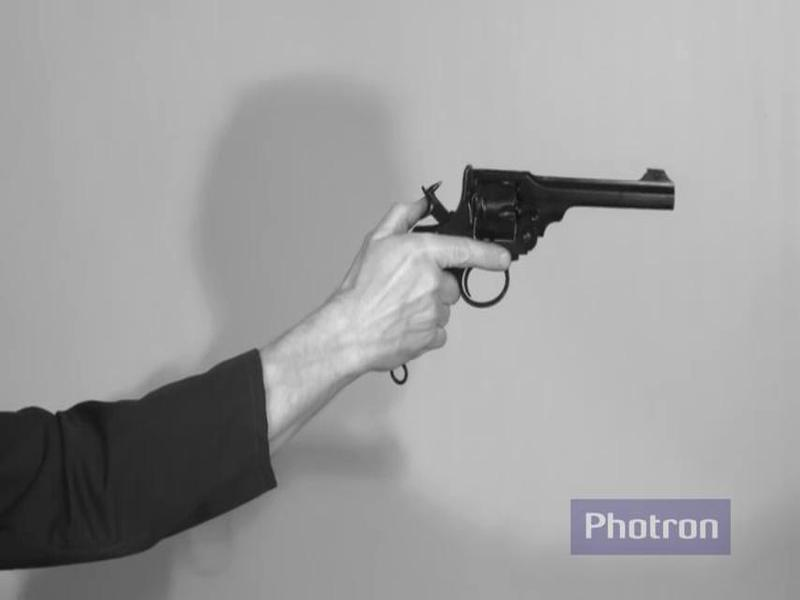Revolver: (403, 133, 682, 311)
